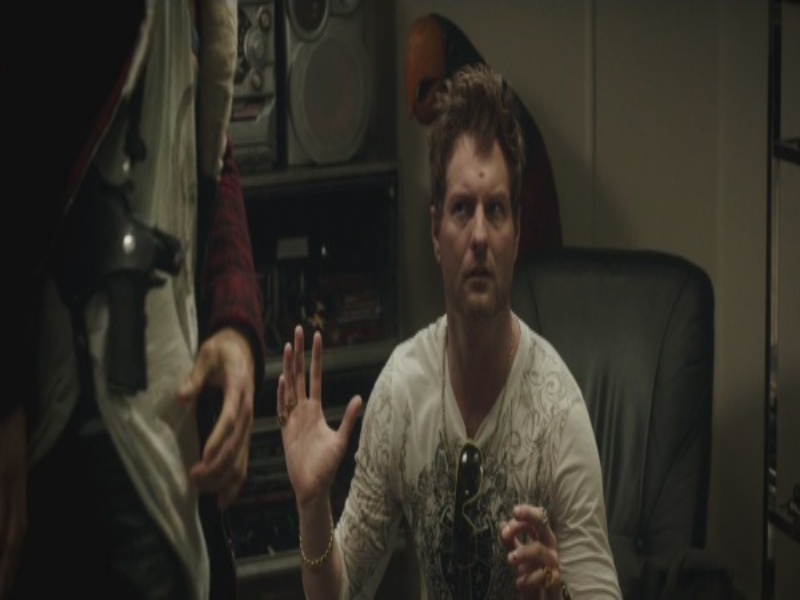person: (290, 67, 630, 592), (7, 7, 245, 591)
weapon: (73, 170, 149, 379)
